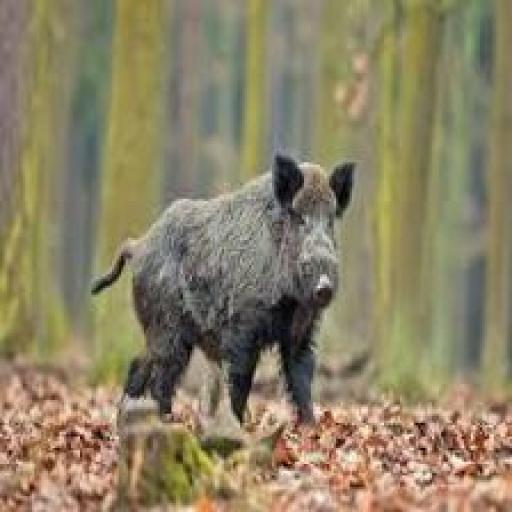Pig: (53, 130, 370, 471)
